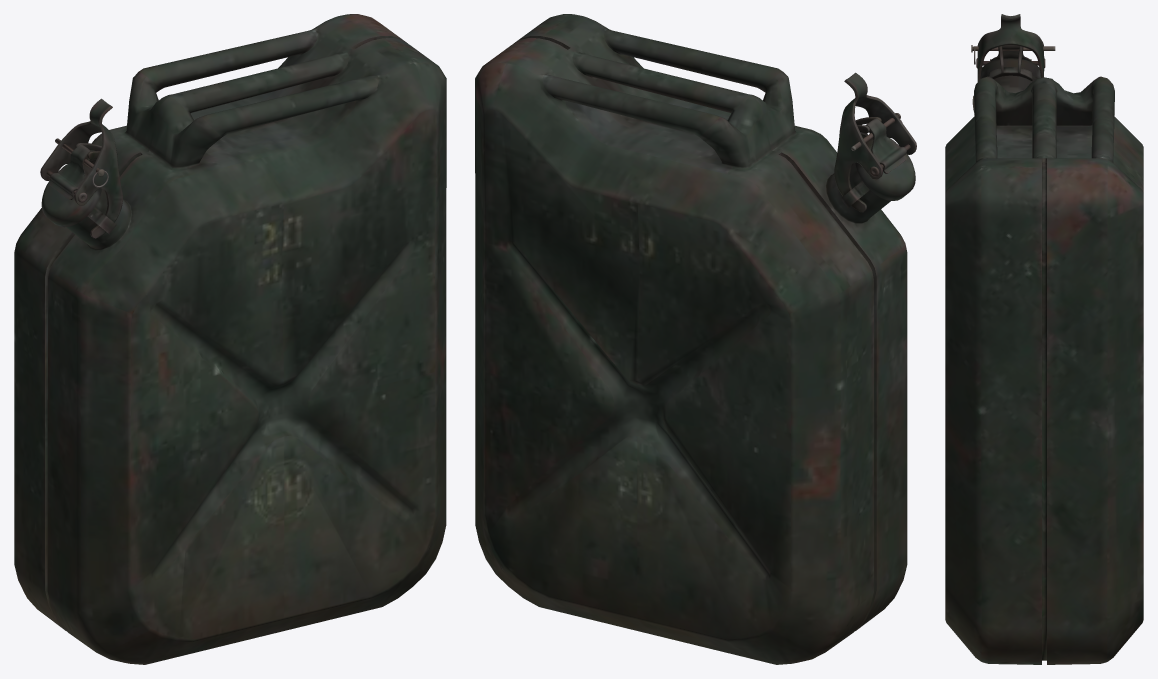
File: jerrycan-high.glb
3 views of the same model, side by side, from view 1: azimuth 30°, elevation 25°; view 2: azimuth 150°, elevation 25°; view 3: azimuth 270°, elevation 25° (orthographic). The views are drawn at different scales.
Parts seen in each view (by area): view 1: metal_jerrycan_green_pin; view 2: metal_jerrycan_green_pin; view 3: metal_jerrycan_green_pin.
Part boxes in pixels (x1,y1,x2,y2): metal_jerrycan_green_pin: (14, 14, 446, 664); metal_jerrycan_green_pin: (475, 14, 916, 664); metal_jerrycan_green_pin: (945, 14, 1143, 664).
Size of the model in its own units: 0.3604 by 0.4999 by 0.1709.
Materials: 1 (1 with a texture image).
